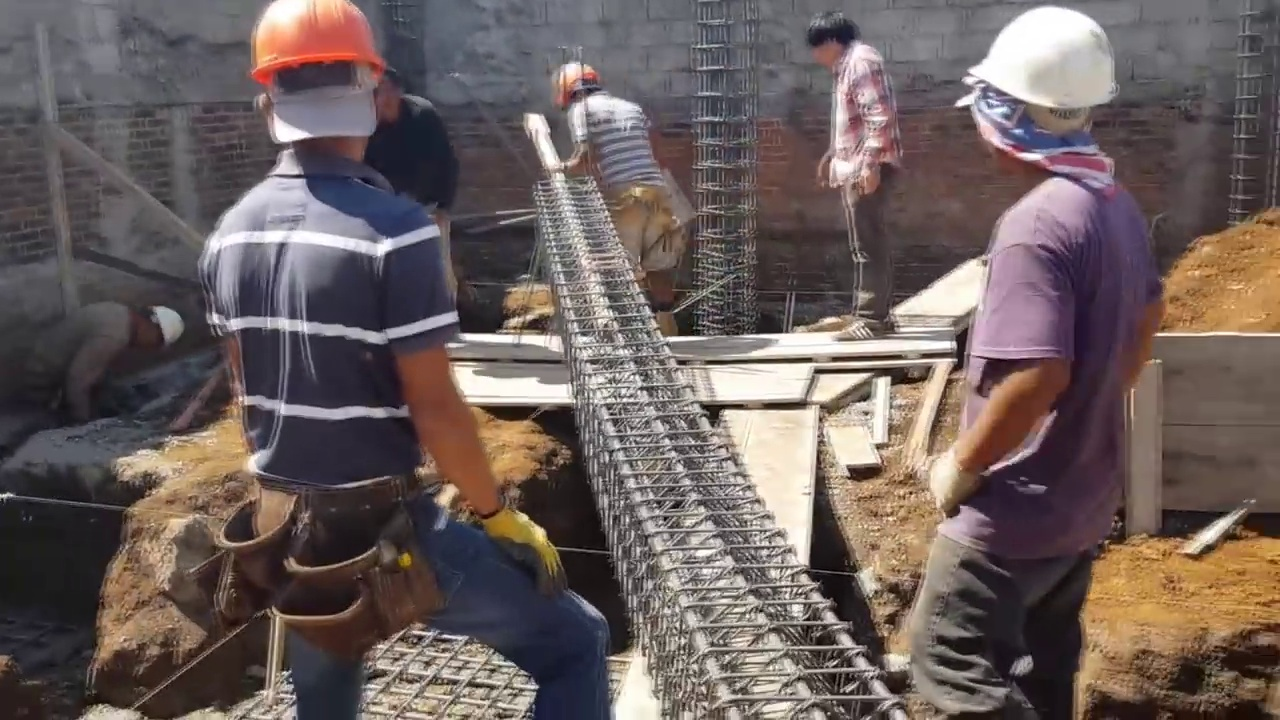helmet: (974, 5, 1120, 113), (235, 0, 395, 97), (150, 304, 187, 348), (555, 56, 594, 91)
helmet-off: (804, 8, 863, 68)
helmet-on: (953, 1, 1125, 190), (231, 3, 402, 180), (122, 302, 190, 354), (552, 57, 609, 114)
person: (182, 0, 581, 720), (910, 1, 1161, 719), (550, 54, 698, 339), (805, 5, 904, 344), (18, 287, 191, 434), (352, 69, 447, 227)
